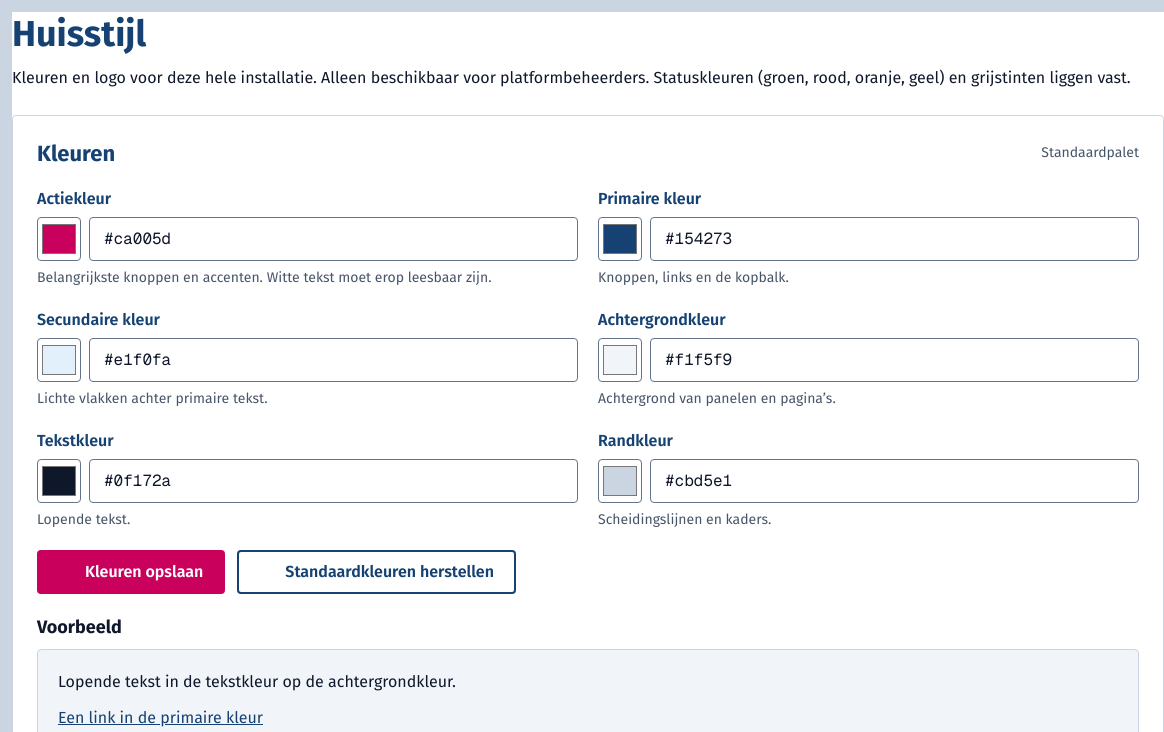
Test: Huisstijl page › does not save a malformed colour
Replace the text in the field with id "brand-primary" with "blue". click: (894, 239)
box: top-left (650, 217), bottom-right (1139, 261)
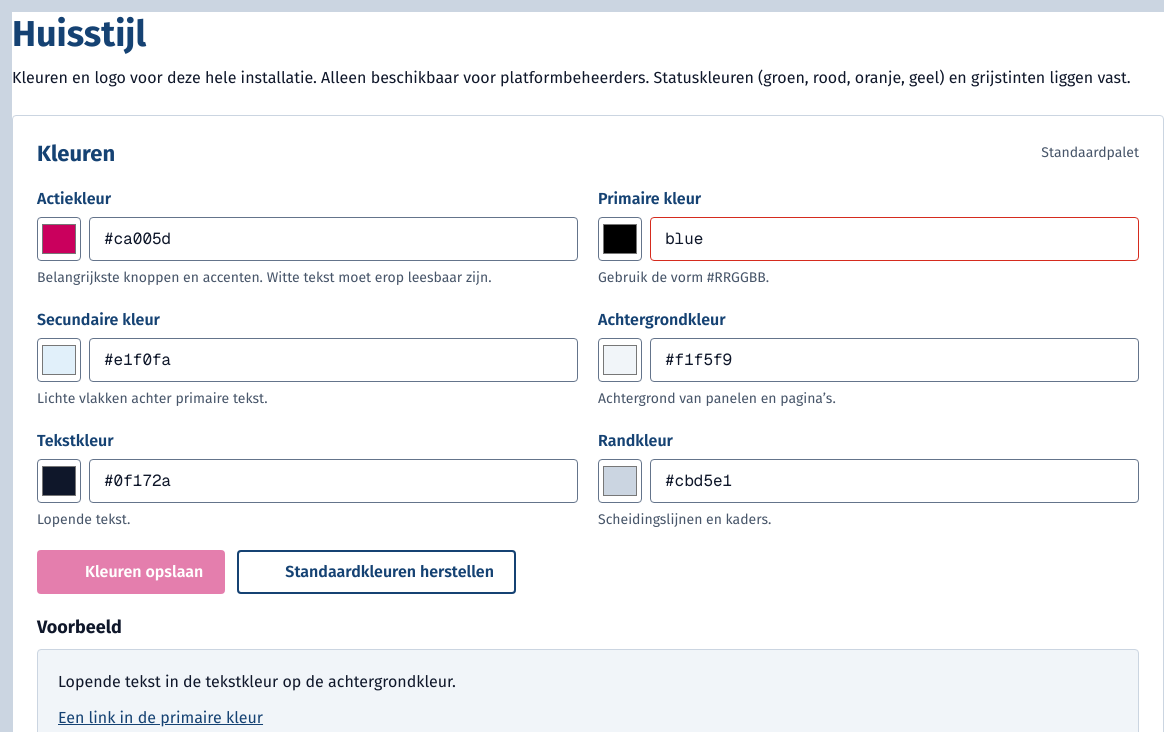
Now the button "Kleuren opslaan" is disabled, box top-left (37, 550), bottom-right (225, 594)
Now the text "Gebruik de vorm #RRGGBB." is shown, box top-left (598, 269), bottom-right (769, 286)
